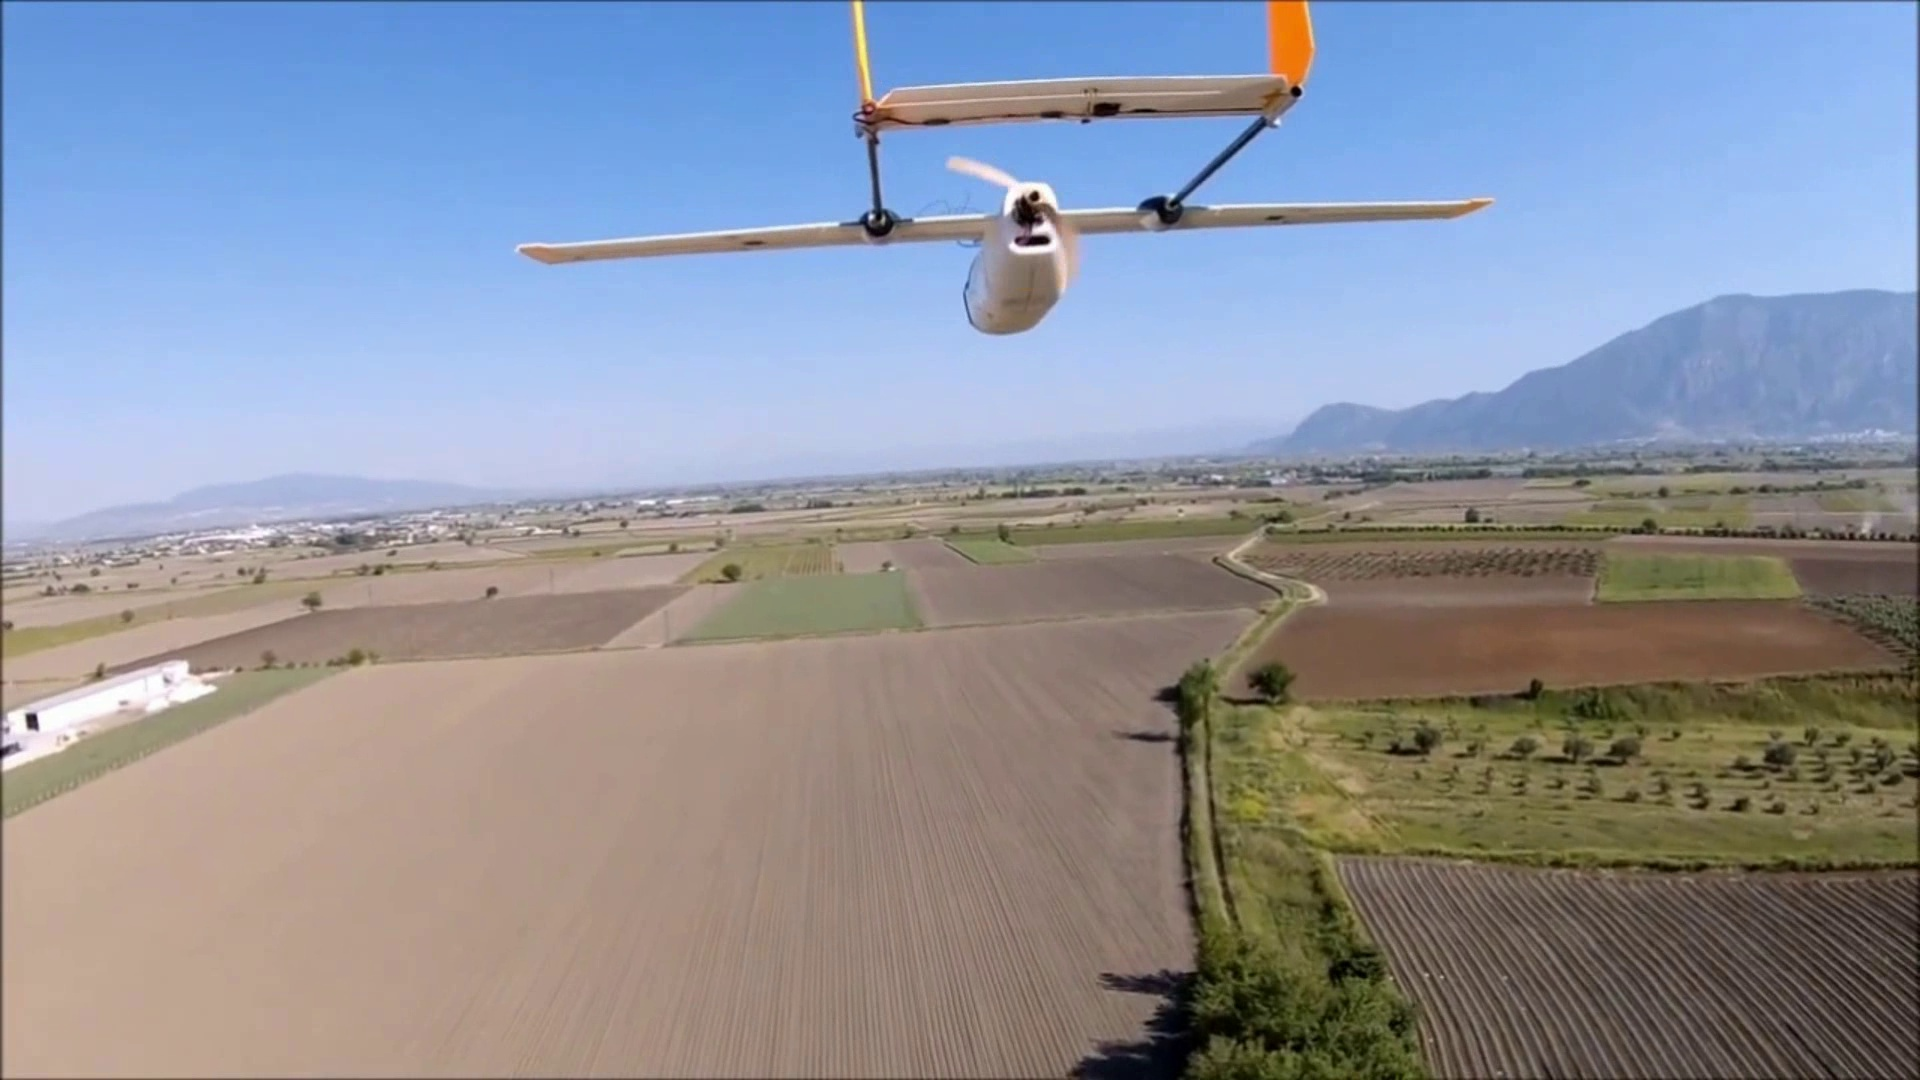airplane: (518, 4, 1497, 337)
